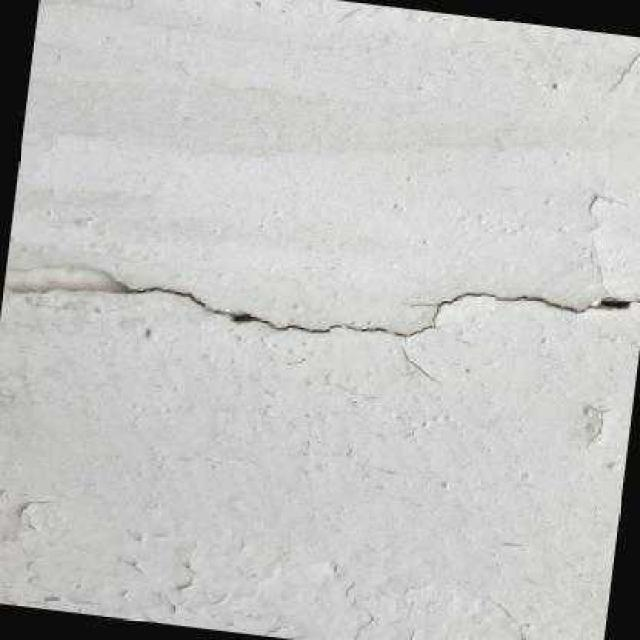D00: (124, 284, 640, 336)
